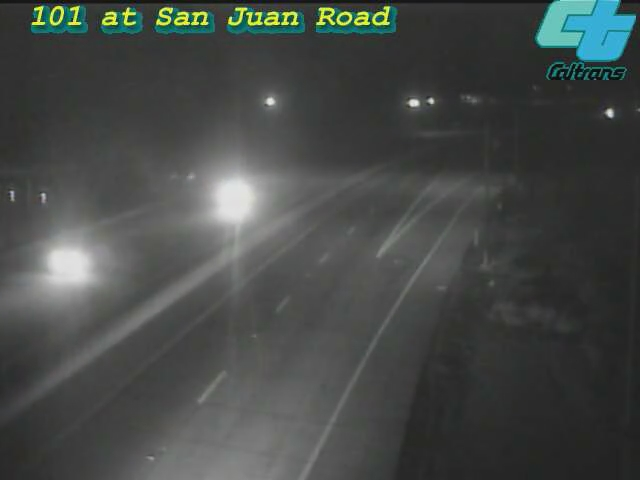vehicle: (26, 222, 106, 302), (189, 161, 269, 241), (582, 87, 632, 137)
